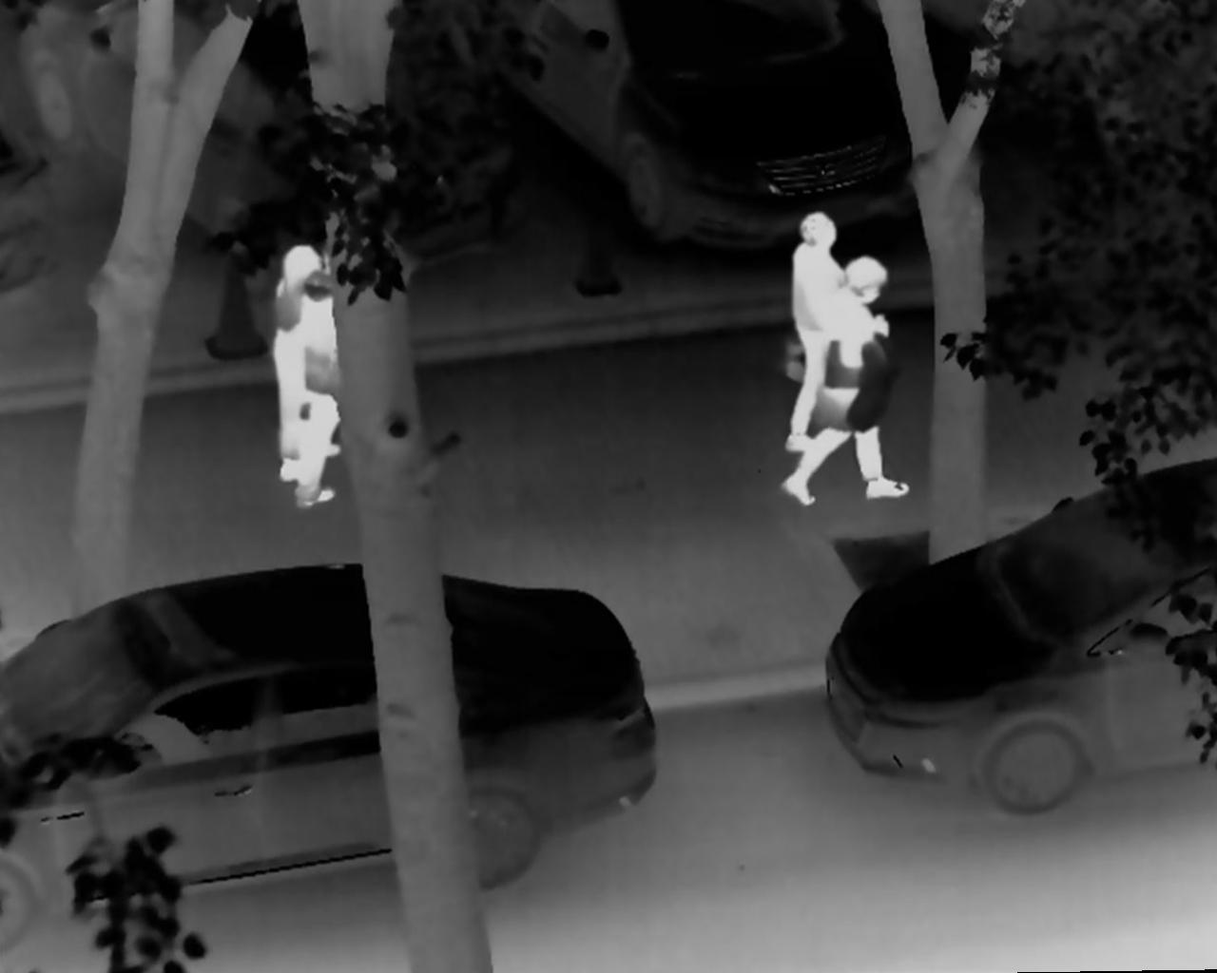person: (781, 256, 919, 509), (291, 240, 403, 511), (778, 208, 869, 456), (265, 239, 342, 482)
